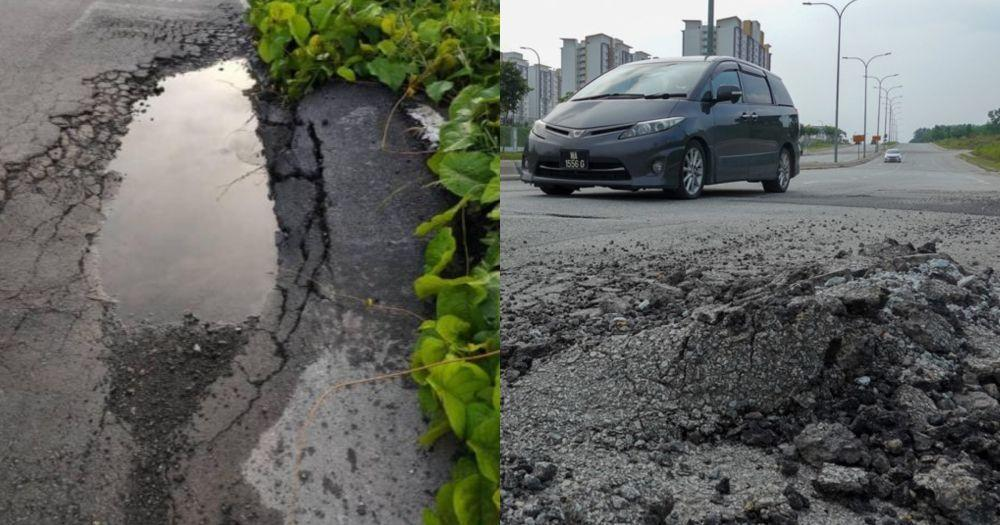Pothole: (46, 31, 316, 365)
